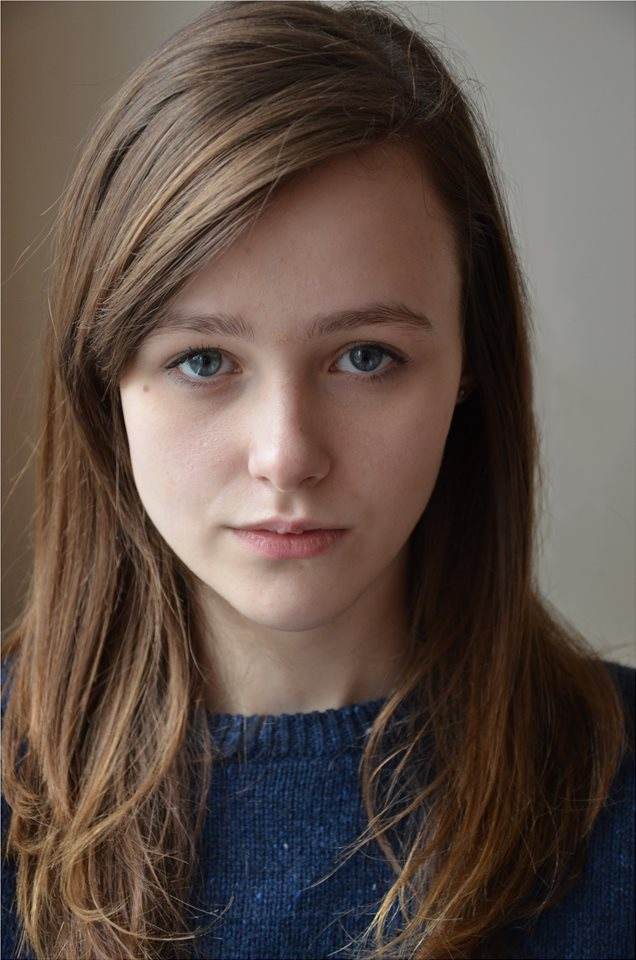person: (1, 1, 636, 960)
